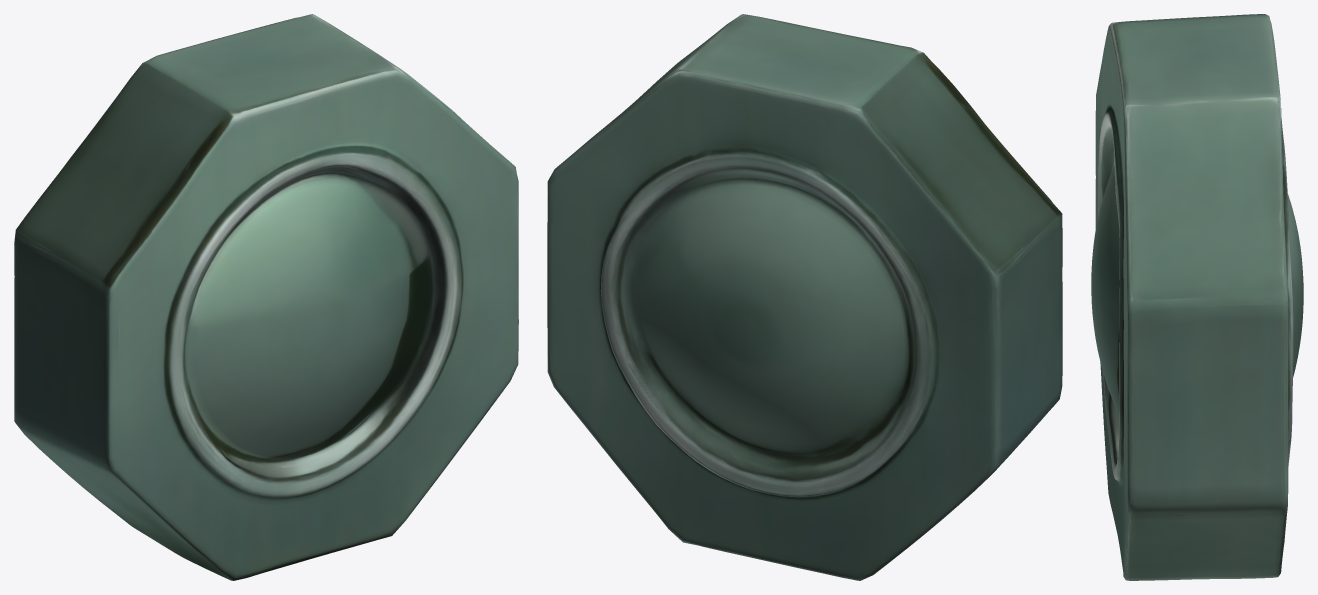
The model's file is velith-node.glb.
3 renders of one model, left to right at view 1: azimuth 30°, elevation 25°; view 2: azimuth 150°, elevation 25°; view 3: azimuth 270°, elevation 25°, orthographic. The views are drawn at different scales.
Visible parts, largest first — view 1: model; view 2: model; view 3: model.
Boxes of the visible parts, left/top/right/bottom form: model: left=14, top=14, right=518, bottom=580; model: left=547, top=14, right=1062, bottom=580; model: left=1091, top=14, right=1303, bottom=580.
Bounding box in the file's own units: 1.86 × 1.9 × 0.7589.
1 material, 1 textured.
